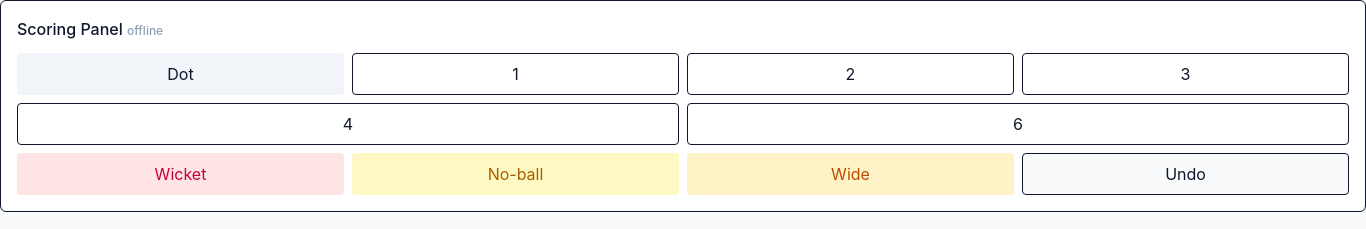
it: ScorerPanel › handles network error in fallback mode
Click the button "1". click: click(516, 74)
box: [352, 53, 679, 95]
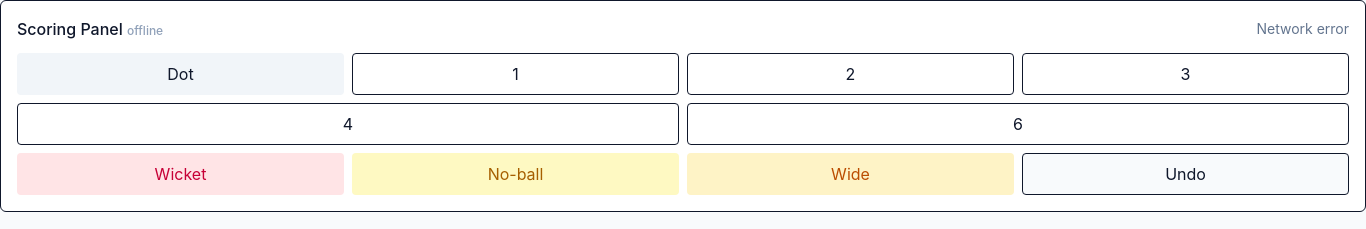
Expected: the text "Network error" is shown, [1256, 19, 1349, 39]
